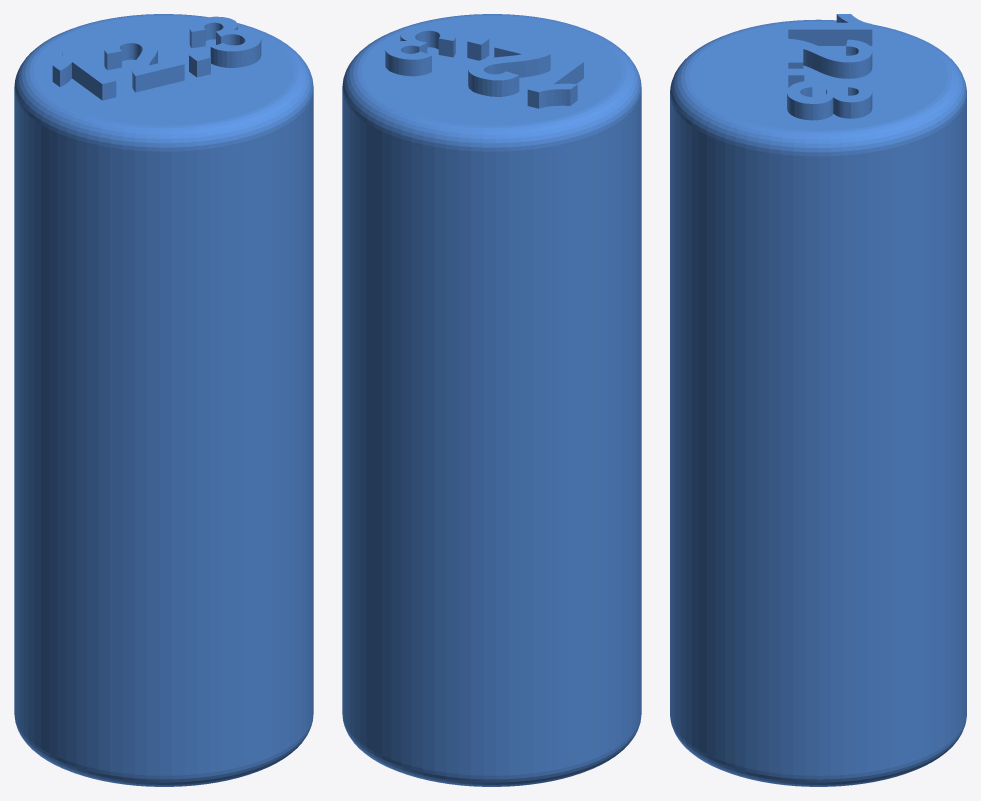
The model's file is 3DPX-023525.glb.
3 renders of one model, left to right at view 1: azimuth 30°, elevation 25°; view 2: azimuth 150°, elevation 25°; view 3: azimuth 270°, elevation 25°, orthographic.
Visible parts, largest first — view 1: 12.35diam30mmlongpelvisfpegv2-repaired-nih3d; view 2: 12.35diam30mmlongpelvisfpegv2-repaired-nih3d; view 3: 12.35diam30mmlongpelvisfpegv2-repaired-nih3d.
Part boxes in pixels (box(x1,y1,x2,y2)): 12.35diam30mmlongpelvisfpegv2-repaired-nih3d: box(14, 14, 313, 786); 12.35diam30mmlongpelvisfpegv2-repaired-nih3d: box(342, 14, 641, 786); 12.35diam30mmlongpelvisfpegv2-repaired-nih3d: box(670, 14, 966, 786).
Bounding box in the file's own units: 12.35 × 30.75 × 12.34.
